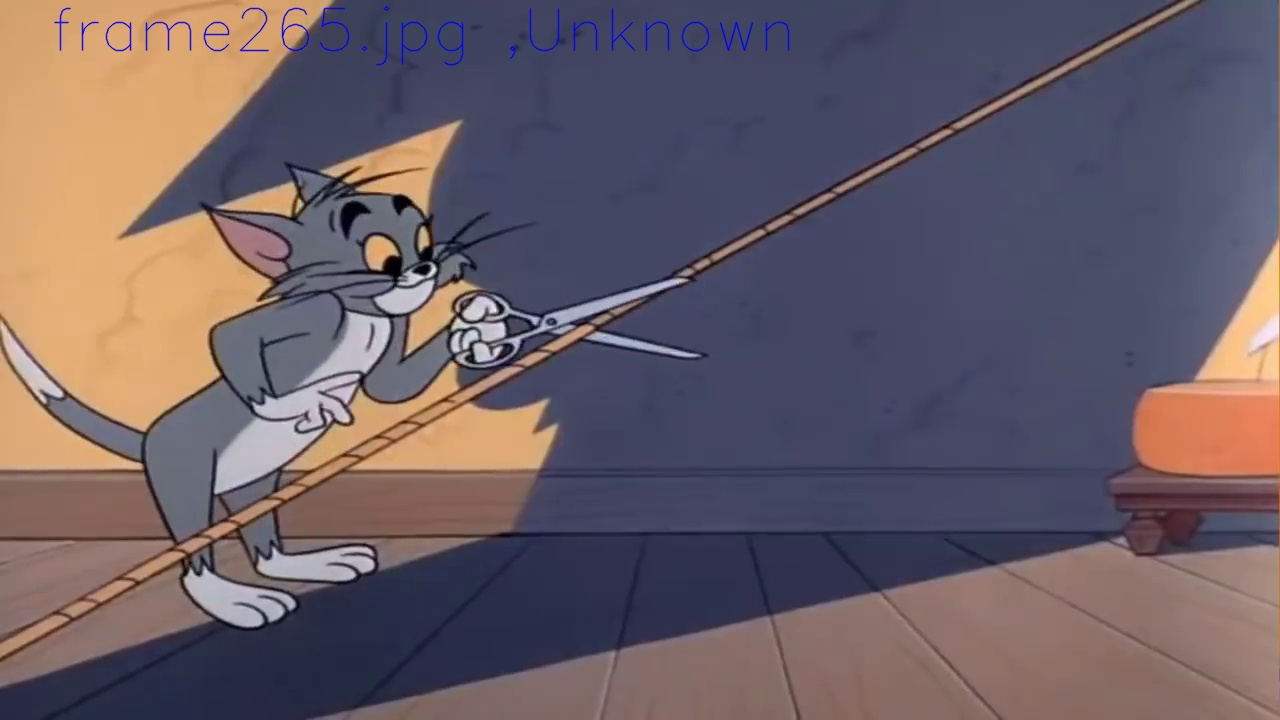happy: (341, 196, 438, 314)
